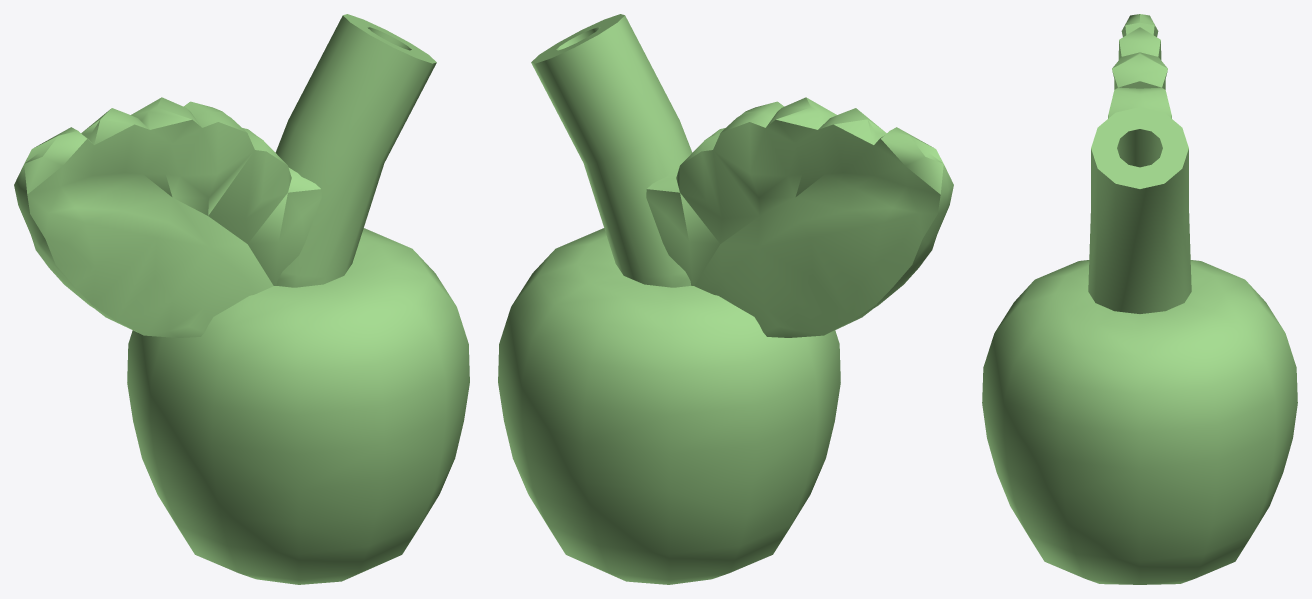
Rendered from apple.dae.
3 views of the same model, side by side, from view 1: azimuth 30°, elevation 25°; view 2: azimuth 150°, elevation 25°; view 3: azimuth 270°, elevation 25° (orthographic). The views are drawn at different scales.
Parts seen in each view (by area): view 1: Object; view 2: Object; view 3: Object.
Part boxes in pixels (box(x1,y1,x2,y2)): Object: box(14, 14, 469, 584); Object: box(498, 14, 953, 584); Object: box(982, 14, 1297, 584).
Bounding box in the file's own units: 0.0149 × 0.0103 × 0.0171.
